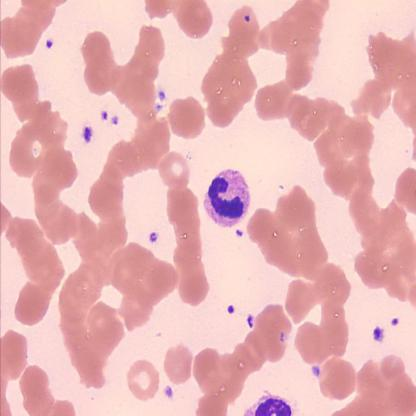Band Neutrophil: (200, 165, 251, 229)
